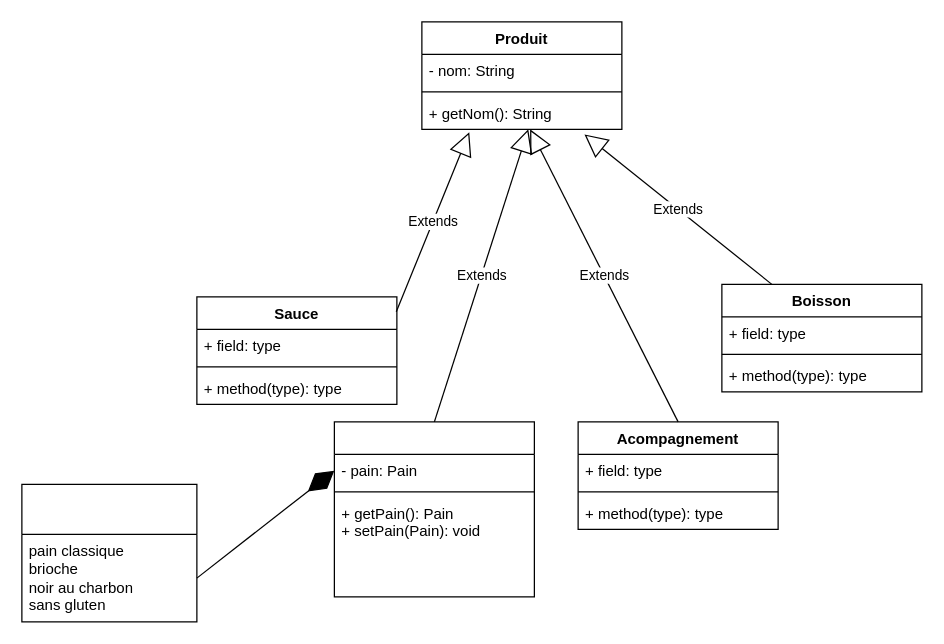
The diagram is 944 pixels wide and 644 high, and some of its shapes have lost their labels. The box of each missing label's shape, as (x1, y1, x2, y2) in pixels:
<<enumeration>> Pain: (21, 483, 197, 622)
Burger: (333, 421, 534, 597)
